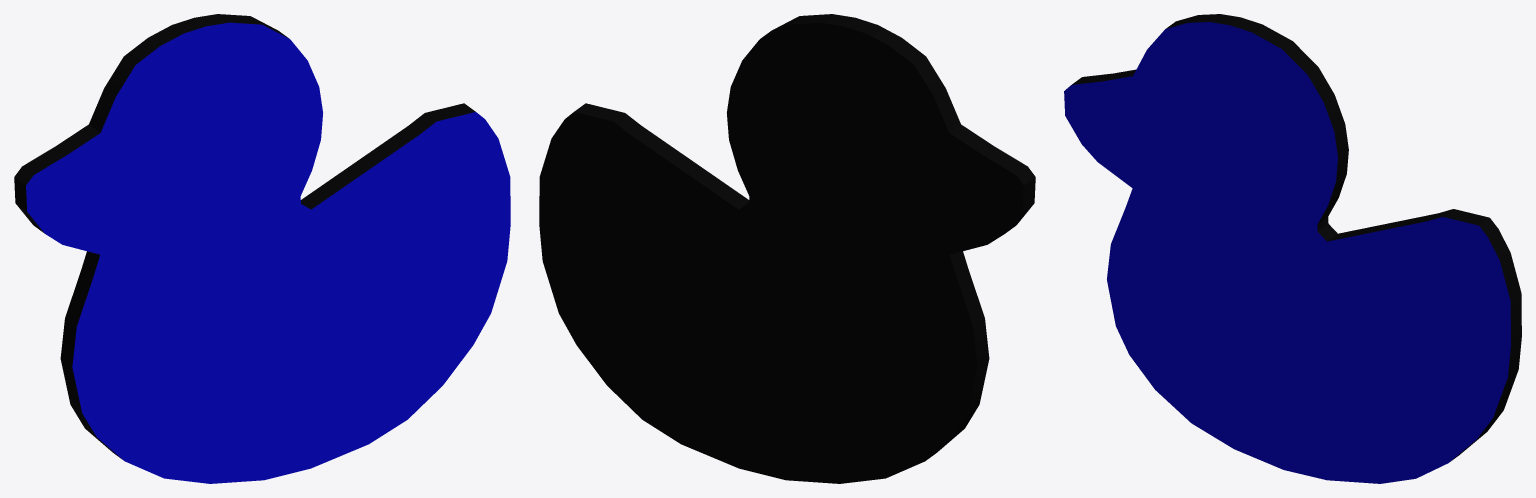
The model's file is duck.fbx.
3 renders of one model, left to right at view 1: azimuth 30°, elevation 25°; view 2: azimuth 150°, elevation 25°; view 3: azimuth 330°, elevation 25°, orthographic. The views are drawn at different scales.
Visible parts, largest first — view 1: pCube39; view 2: pCube39; view 3: pCube39.
Boxes of the visible parts, left/top/right/bottom form: pCube39: left=14, top=14, right=510, bottom=483; pCube39: left=539, top=14, right=1035, bottom=483; pCube39: left=1064, top=14, right=1521, bottom=483.
Bounding box in the file's own units: 2.23 × 2.06 × 0.094.
